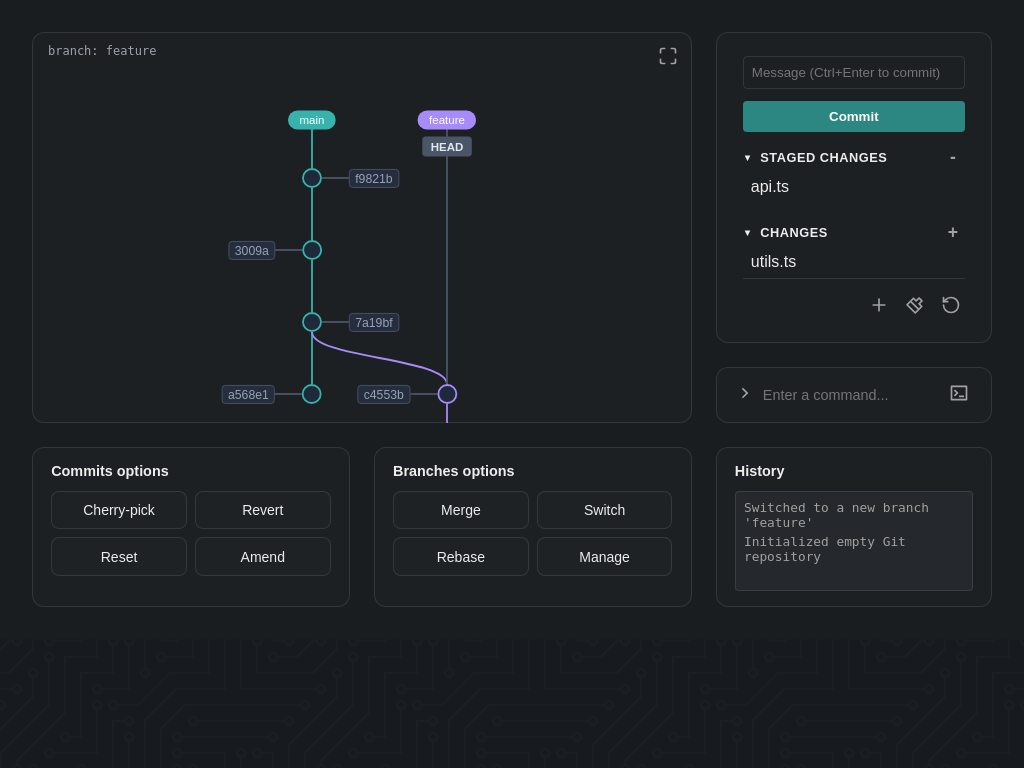
Test: MainButtons Git Logic Integration Tests › Cherry-pick › should not change the state if the modal is closed without selection
The width and height of the screenshot is (1024, 768).
Click the button "Cherry-pick" at (119, 510), box [51,491,187,529]
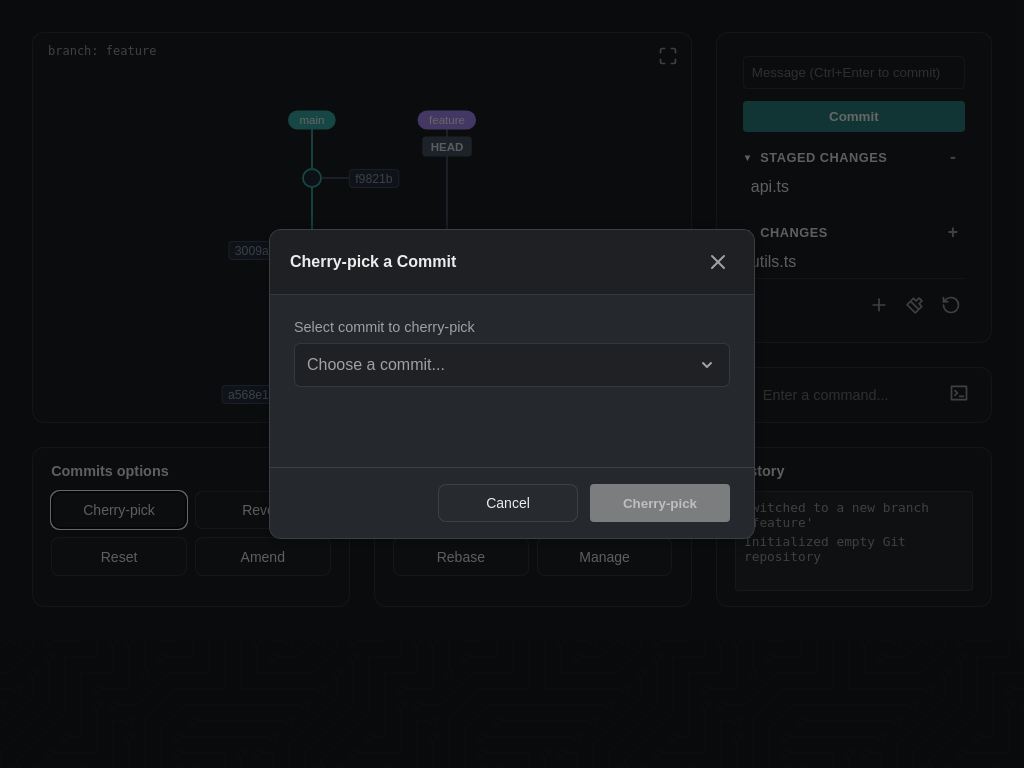
Click the button named "close modal" at (718, 262), box [702,246,734,278]
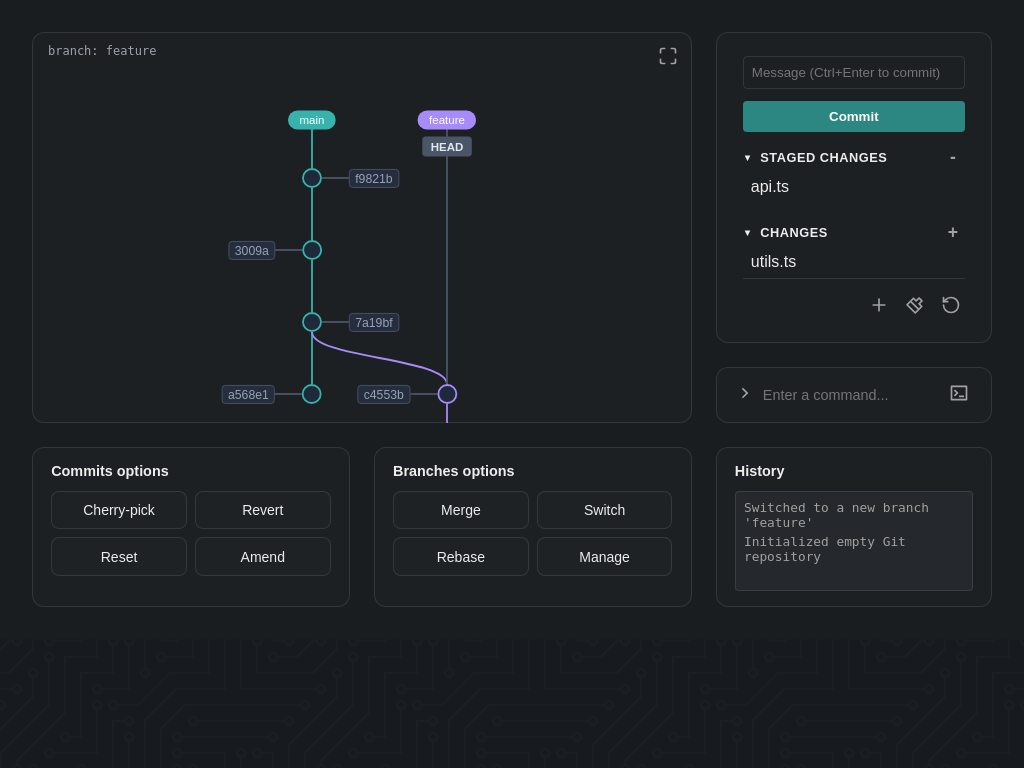
Expected: the heading "Cherry-pick a Commit" is gone
